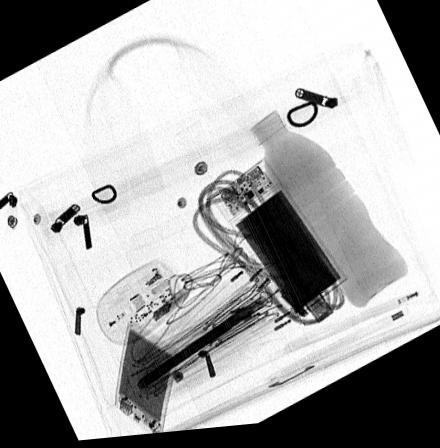Powerbank: (211, 162, 350, 326), (114, 325, 182, 437)
